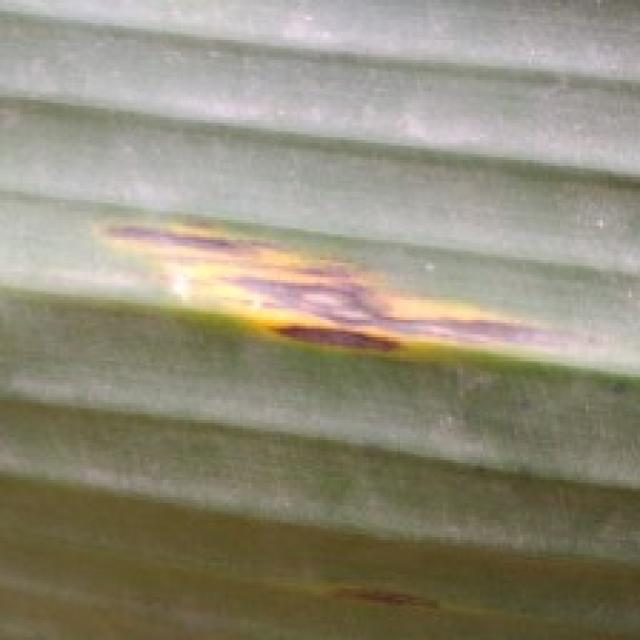Early_leaf_spot: (84, 189, 640, 390), (327, 556, 446, 621)
